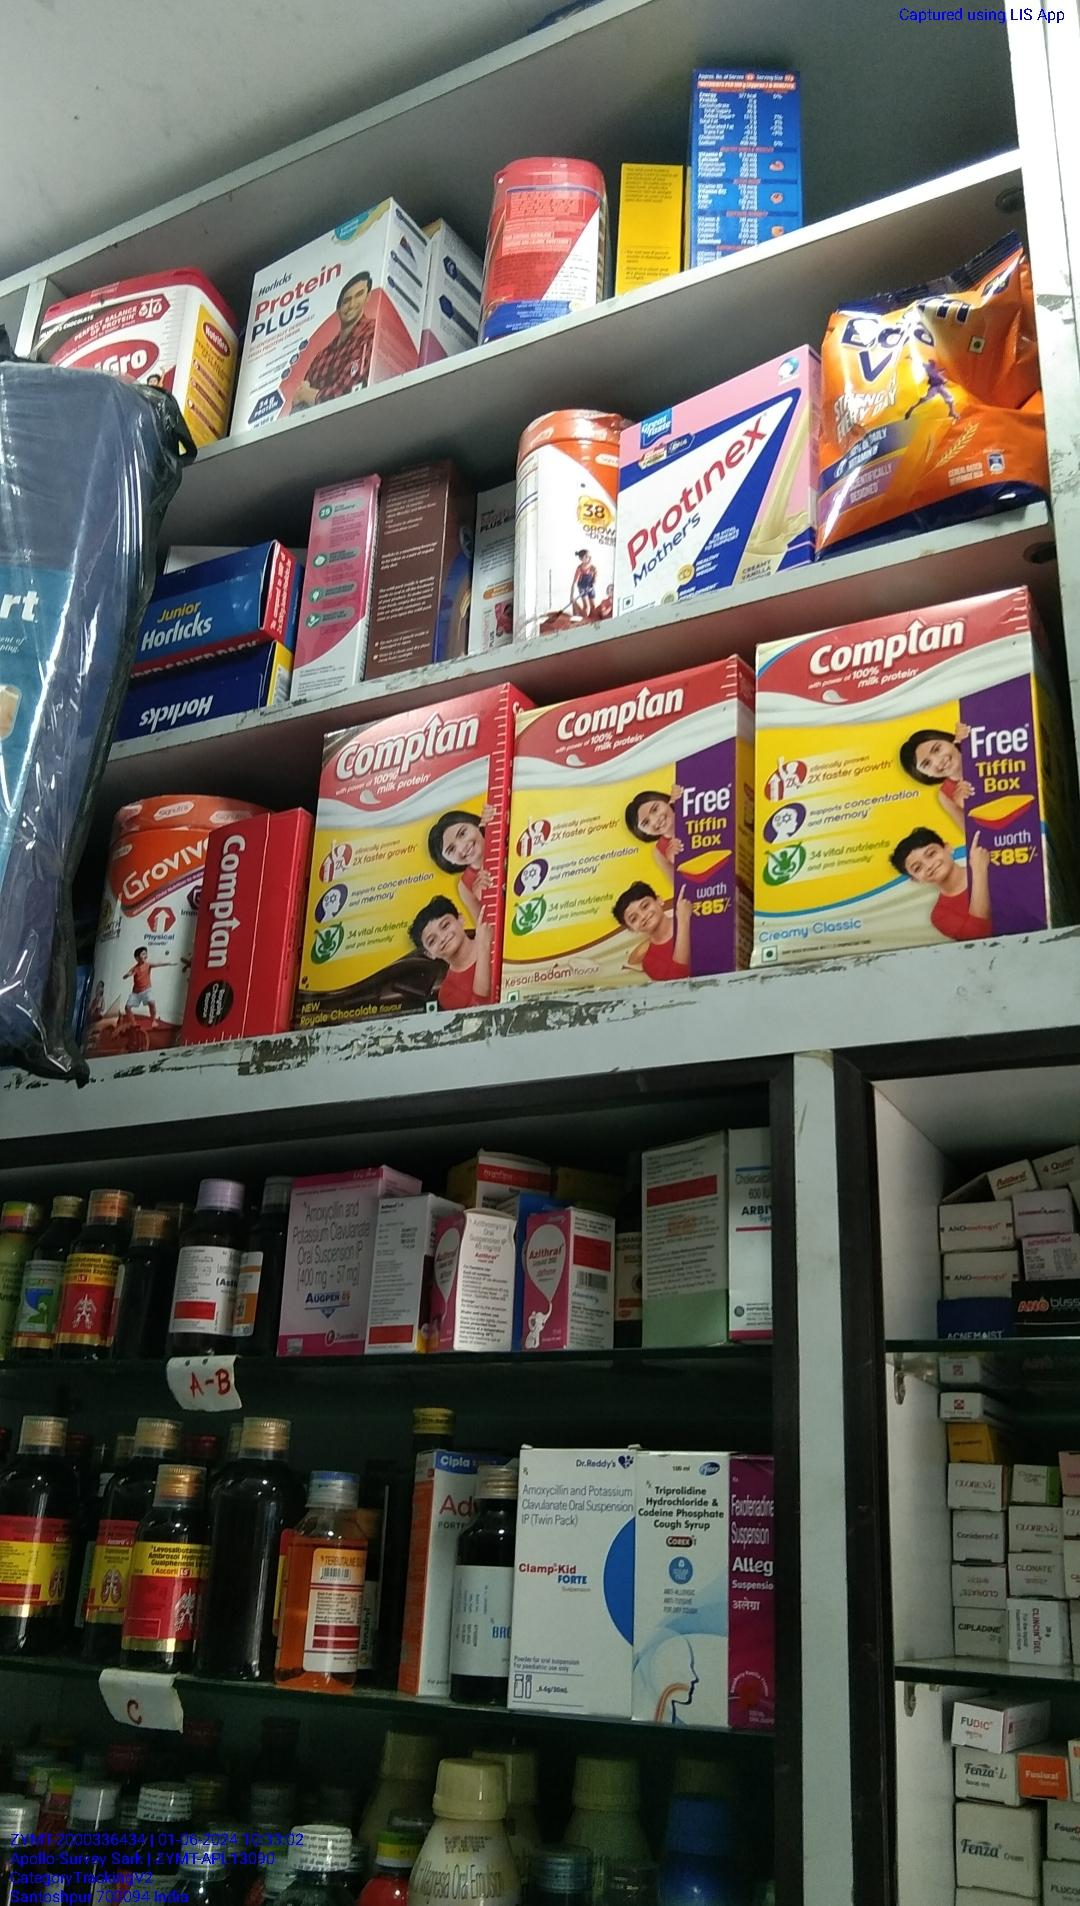BOURN_VITA_500_G_POUCH: (813, 245, 1032, 517)
COMPLAN_CHOCOLATE_1_KG_PACK: (309, 699, 500, 1020)
COMPLAN_CREAMY_CLASSIC_500_G_PACK: (753, 610, 1056, 944)
COMPLAN_KESAR_BADAM_500_GMS_PACK: (514, 695, 734, 995)
